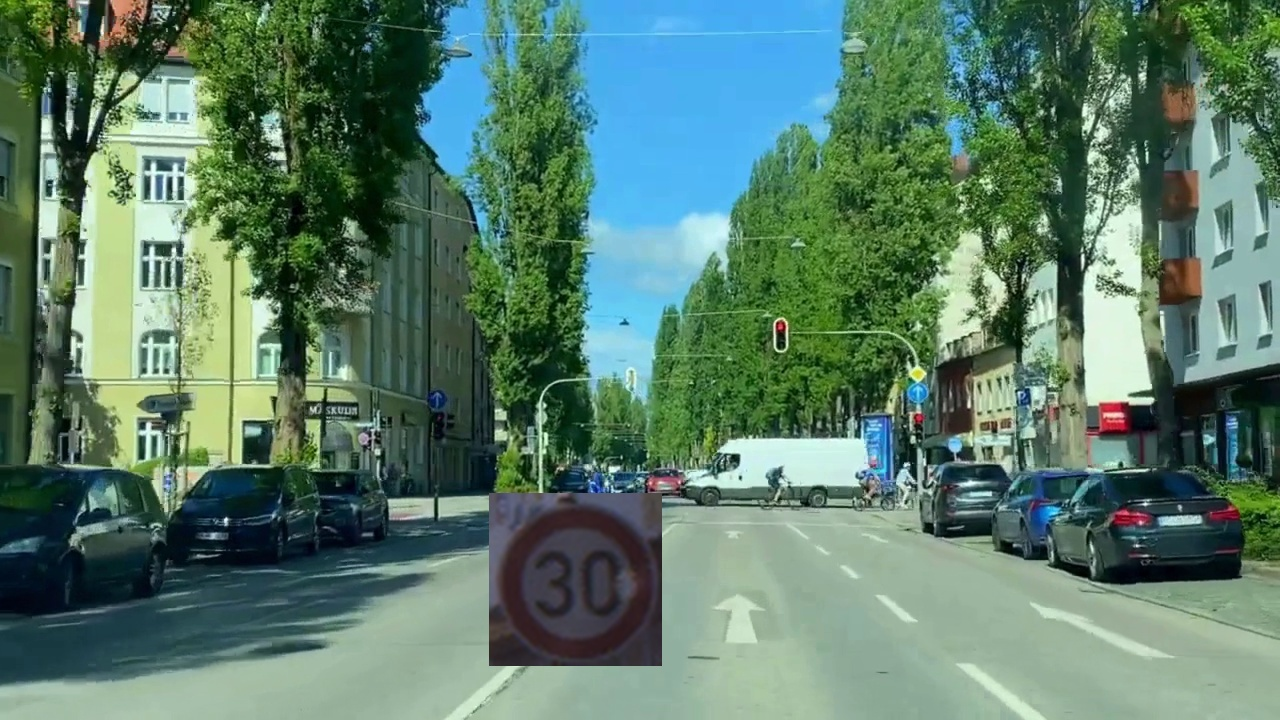Speed 30: (489, 493, 662, 666)
